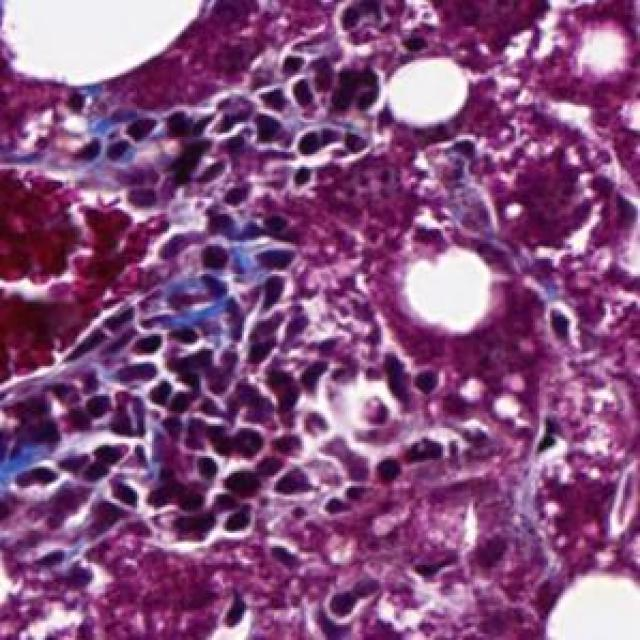inflammation: (266, 430, 478, 514), (9, 432, 154, 526), (199, 90, 375, 167), (205, 88, 372, 167), (201, 272, 302, 364)
